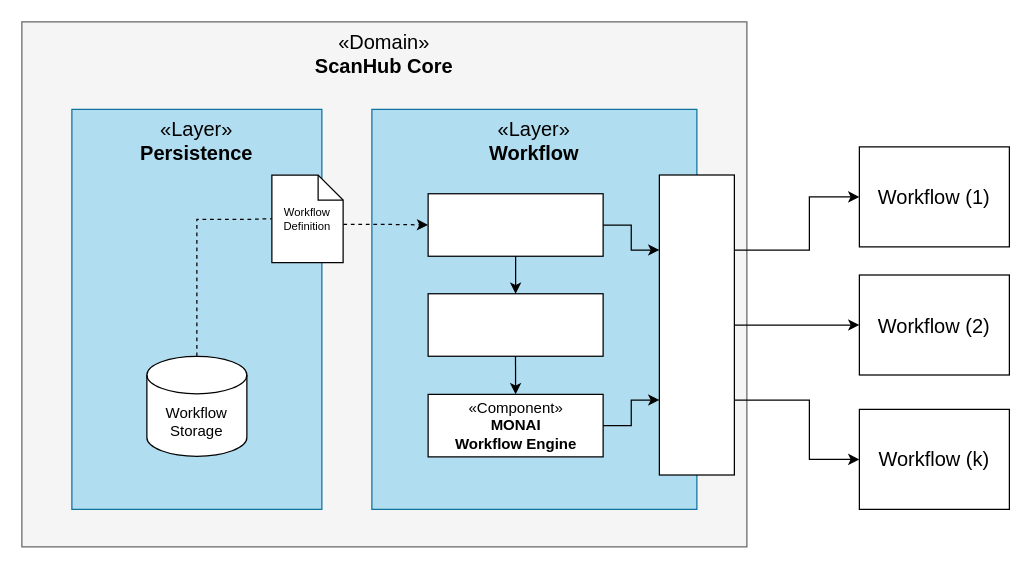
Image size: 1031x569. Some labels were removed from this diagram. Here are the shapes that lost their labels. From the top down, the centre of each, then its label:
At (515,224): "«Component» Workflow Engine".
At (515,324): "«Component» MONAI Informatics Gateway".
At (696,324): "Message Broker".
